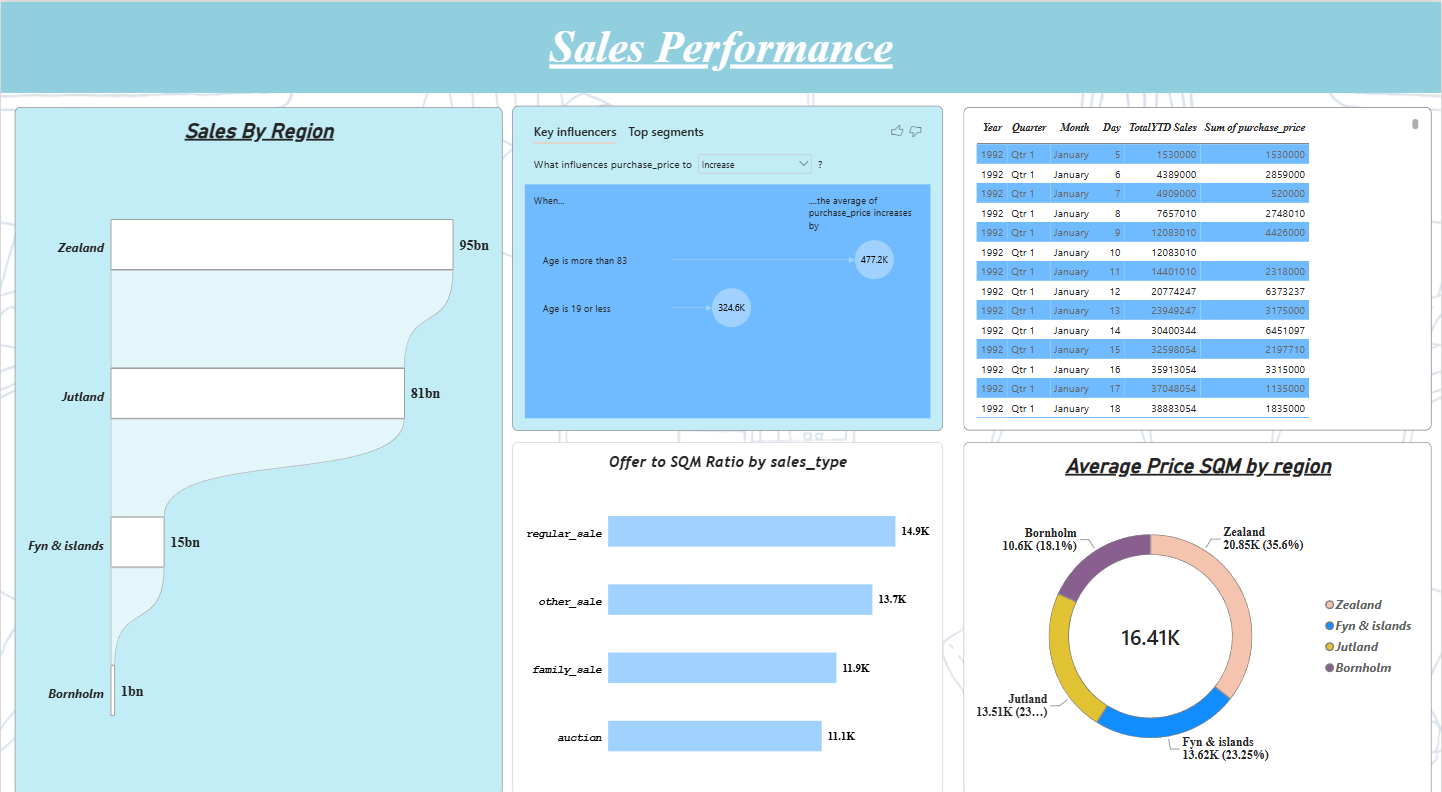

Layout of this report page (visuals, bound fields, positions):
{"tool":"powerbi","page":{"name":"Sales Performance","canvas":[1920,1080],"ordinal":1},"visuals":[{"type":"shape","box":[0,0,1920.1,121.2],"z":0},{"type":"barChart","title":"Sales By Region","fields":{"Category":["Housing.region"],"Y":["Measures Table 2.Sales By region"]},"box":[18,140,650,918],"z":1},{"type":"tableEx","fields":{"Values":["Housing.date.Variation.Date Hierarchy.Year","Housing.date.Variation.Date Hierarchy.Quarter","Housing.date.Variation.Date Hierarchy.Month","Housing.date.Variation.Date Hierarchy.Day","Measures Table 2.TotalYTD Sales","Sum(Housing.purchase_price)"]},"box":[1283.3,140.7,624.1,431.5],"z":2},{"type":"donutChart","fields":{"Category":["Housing.region"],"Y":["Measures Table 2.Average Price SQM"]},"box":[1283.3,587,624.1,472.2],"z":3},{"type":"keyDriversVisual","fields":{"ExplainBy":["Housing.Age"],"Target":["Housing.purchase_price"]},"box":[681.5,138.9,574.1,433.3],"z":4},{"type":"barChart","fields":{"Category":["Housing.sales_type"],"Y":["Measures Table 2.Offer to SQM Ratio"]},"box":[681.5,587,574.1,470.4],"z":5}]}

Visuals, with their boxes in screenshot pixels (x1, y1, x2, y2), scaled from the page's 1920x1080 canvas onto the 1442x792 screenshot:
shape: 0/0/1441/89
"Sales By Region" barChart: 14/103/502/776
tableEx - Housing.date.Variation.Date Hierarchy.Year x Housing.date.Variation.Date Hierarchy.Quarter: 964/103/1433/420
donutChart - Housing.region x Measures Table 2.Average Price SQM: 964/430/1433/777
keyDriversVisual - Housing.Age x Housing.purchase_price: 512/102/943/420
barChart - Housing.sales_type x Measures Table 2.Offer to SQM Ratio: 512/430/943/775
